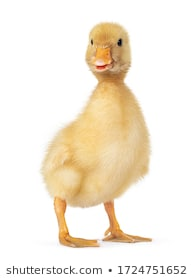duck: (38, 15, 164, 250)
